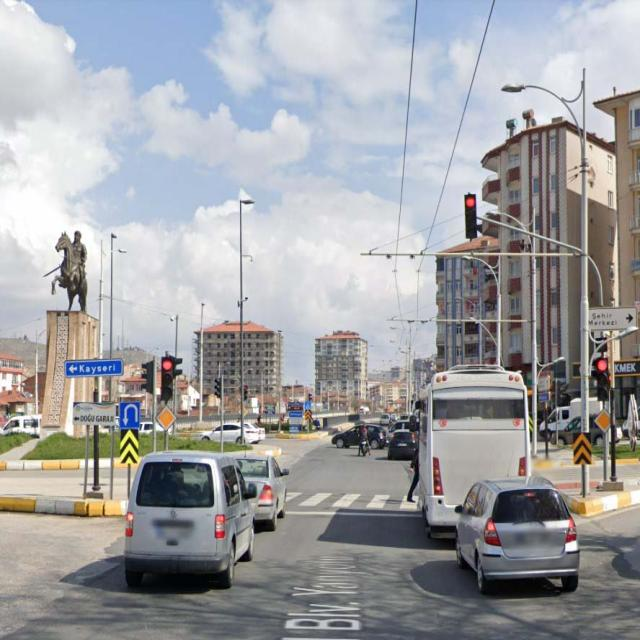kirmizi: (161, 356, 174, 401), (464, 194, 476, 236), (596, 358, 608, 399)
